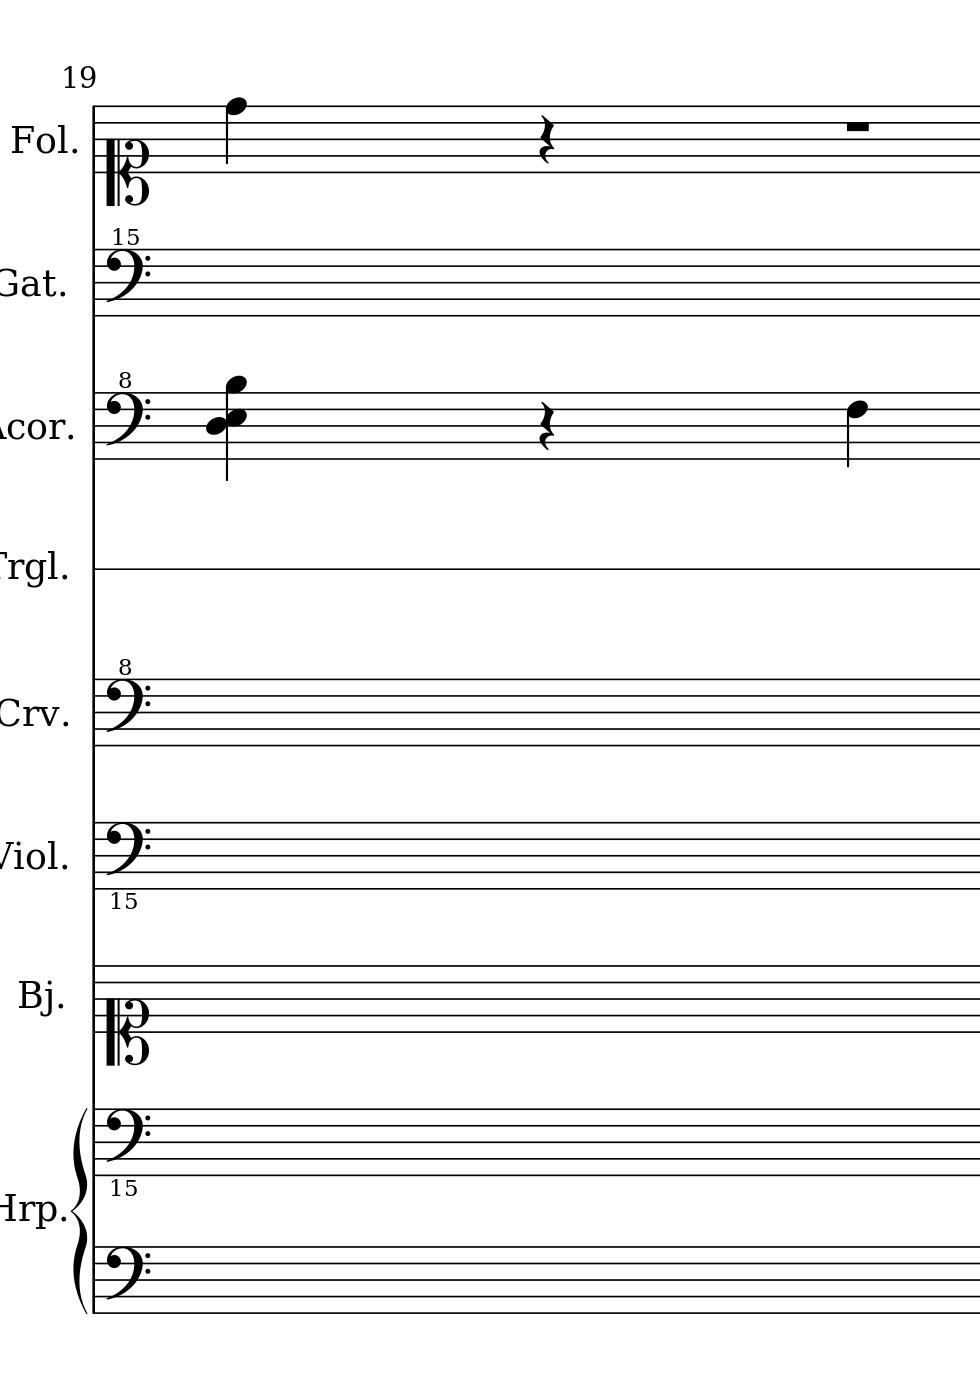1: (62, 63, 76, 91)
4_6: (843, 389, 869, 469)
4_8: (223, 97, 248, 176)
9: (78, 62, 97, 91)
Brace: (68, 1102, 89, 1315)
DHigh_Fclef: (102, 223, 153, 318)
DLower_Fclef: (103, 1105, 155, 1201), (103, 820, 153, 914)
Fclef: (102, 1245, 151, 1312)
High_Fclef: (101, 367, 152, 464)
Rests1: (842, 117, 874, 136)
Rests4: (535, 399, 558, 453), (536, 113, 557, 166)
Single_barline: (85, 966, 102, 1033), (87, 823, 102, 890), (86, 680, 101, 745), (87, 394, 102, 459), (87, 106, 101, 173), (88, 1108, 102, 1175), (87, 250, 101, 316), (88, 1247, 101, 1312)
Soprano_Cclef: (104, 101, 151, 206), (104, 961, 151, 1066)
TimeSig: (102, 657, 150, 747)
